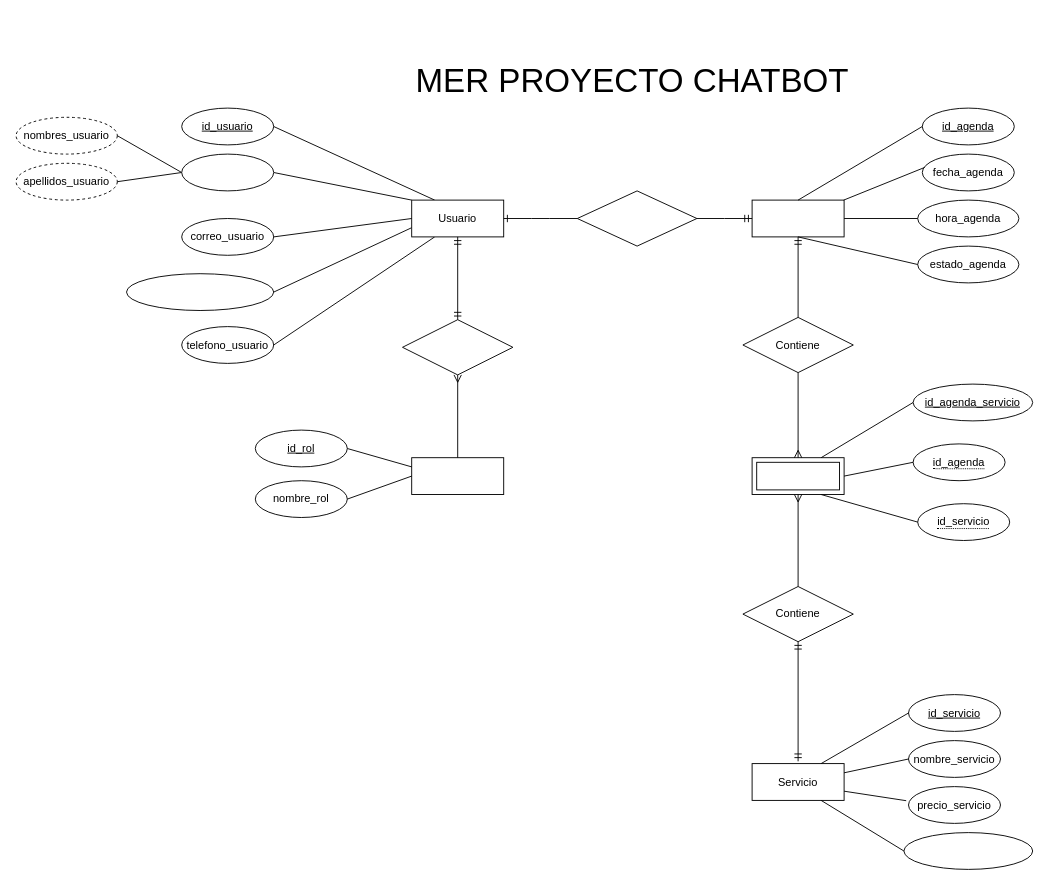
Image size: 1049x885. Some labels were removed from this diagram. Each missing label, with the box of its shape:
Agenda: (751, 199, 844, 237)
Agenda_Servicio: (751, 457, 844, 494)
descripcion_servicio: (903, 832, 1033, 869)
fecha_nacimiento_usuario: (126, 273, 274, 310)
Gestiona: (576, 190, 697, 246)
nombre_usuario: (181, 153, 274, 191)
Rol: (411, 457, 504, 494)
Tiene: (402, 319, 513, 375)
